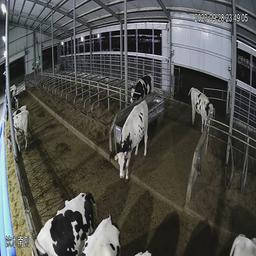cow: (104, 100, 151, 187), (27, 196, 94, 252), (79, 212, 127, 253), (5, 110, 37, 157), (188, 80, 215, 135), (127, 68, 155, 101), (5, 87, 22, 109)
